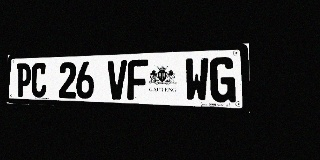2: (59, 62, 76, 98)
6: (76, 61, 94, 99)
C: (31, 63, 47, 98)
F: (127, 59, 148, 100)
G: (210, 57, 236, 103)
P: (16, 63, 31, 97)
V: (107, 60, 127, 100)
W: (185, 57, 209, 102)
